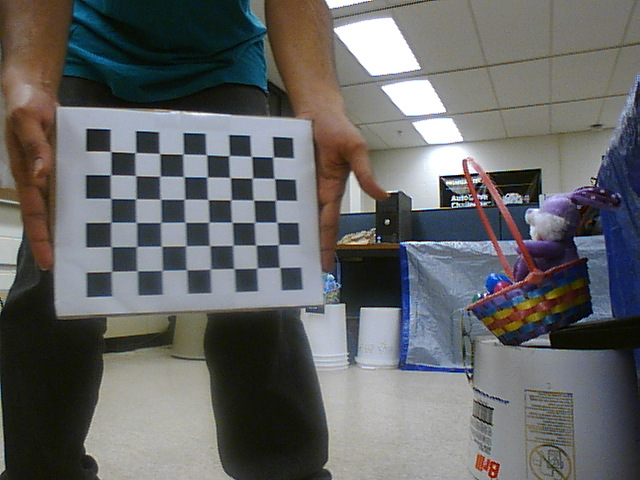bunny: (450, 154, 597, 339)
